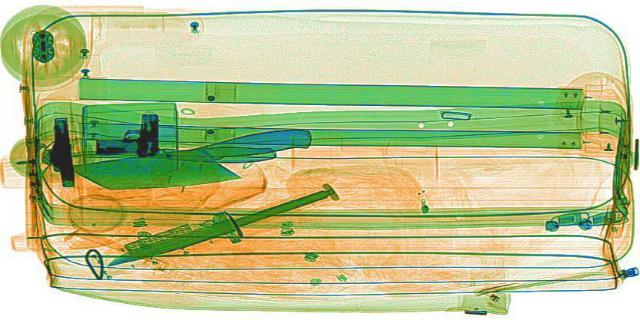Gun: (93, 113, 159, 156), (46, 116, 76, 184)
Knife: (61, 124, 332, 198), (99, 186, 334, 267), (68, 145, 276, 161)
